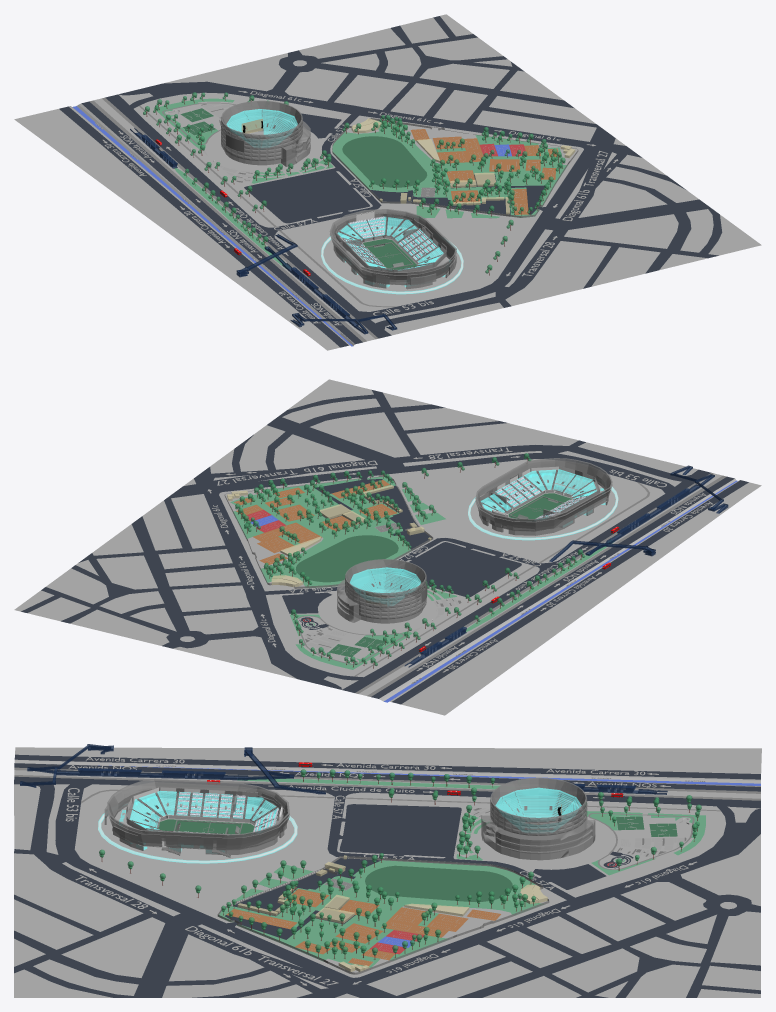
The picture shows the model from 3 angles, top to bottom: view 1: azimuth 30°, elevation 25°; view 2: azimuth 150°, elevation 25°; view 3: azimuth 270°, elevation 25°; orthographic projection. The views are drawn at different scales.
Visible parts, largest first — view 1: Plane.068, piso3, piso4, Text.001, piso2, paredes.002, suelorender2, piso1.002, Cube.005, Cylinder.019, Cube; view 2: Plane.068, piso3, piso4, Text.001, piso2, paredes.002, suelorender2, Cylinder.019, piso1, Cube, piso1.002; view 3: Plane.068, piso3, piso4, Text.001, piso2, paredes.002, suelorender2, piso1.002, Cylinder.019, Cube.005, piso1, Plane.045 (+8 smaller).
Part boxes in pixels (x1,y1,x2,y2): Plane.068: [14, 14, 761, 350]; piso3: [221, 100, 310, 166]; piso4: [329, 209, 456, 281]; Text.001: [95, 91, 607, 325]; piso2: [329, 212, 456, 284]; paredes.002: [236, 235, 397, 334]; suelorender2: [338, 225, 449, 284]; piso1.002: [334, 216, 456, 285]; Cube.005: [334, 213, 446, 273]; Cylinder.019: [321, 236, 463, 294]; Cube: [346, 228, 432, 270]; Plane.068: [14, 379, 761, 715]; piso3: [337, 559, 426, 623]; piso4: [475, 458, 612, 526]; Text.001: [212, 447, 712, 683]; piso2: [475, 461, 612, 531]; paredes.002: [550, 466, 728, 561]; suelorender2: [482, 474, 607, 530]; Cylinder.019: [468, 487, 618, 540]; piso1: [479, 472, 608, 535]; Cube: [494, 480, 579, 516]; piso1.002: [478, 474, 610, 530]; Plane.068: [14, 747, 761, 997]; piso3: [481, 777, 595, 860]; piso4: [107, 778, 289, 844]; Text.001: [65, 757, 705, 985]; piso2: [107, 782, 289, 849]; paredes.002: [20, 745, 325, 794]; suelorender2: [112, 798, 278, 848]; piso1.002: [104, 788, 286, 848]; Cylinder.019: [98, 813, 297, 863]; Cube.005: [126, 787, 283, 836]; piso1: [112, 798, 284, 854]; Plane.045: [323, 856, 543, 928].
Size of the model in its own units: 782 by 59.38 by 986.
